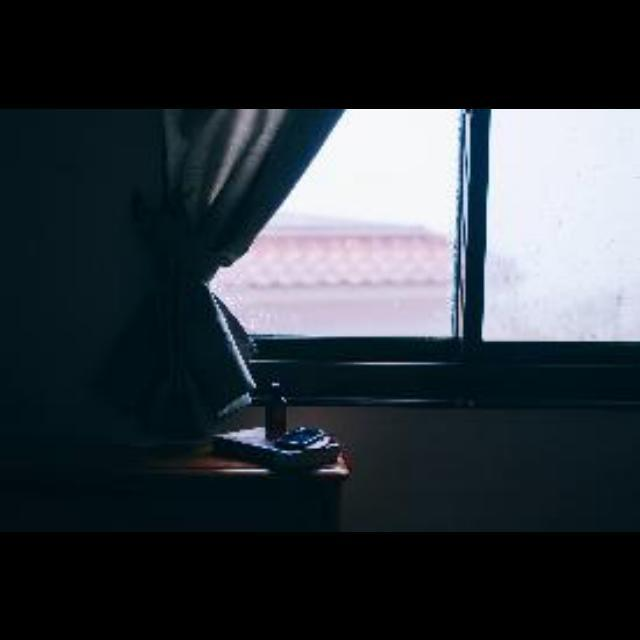Phone: (277, 427, 323, 445)
